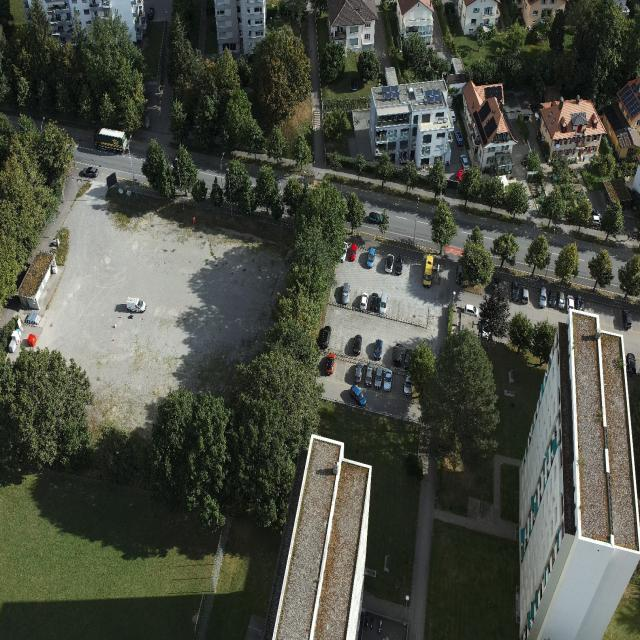panneaux_solaires: (618, 84, 640, 116), (482, 116, 498, 139), (484, 85, 504, 103), (479, 101, 492, 122), (382, 86, 400, 100), (424, 89, 442, 102)
passage_pieton: (308, 178, 322, 188)
